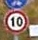limite 10: (3, 9, 28, 34)
